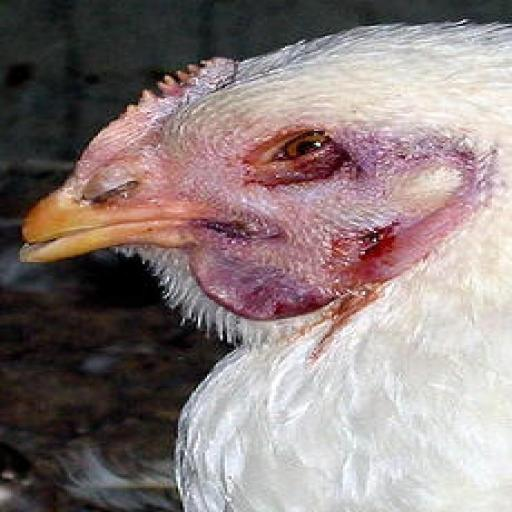disease: (183, 110, 418, 336)
